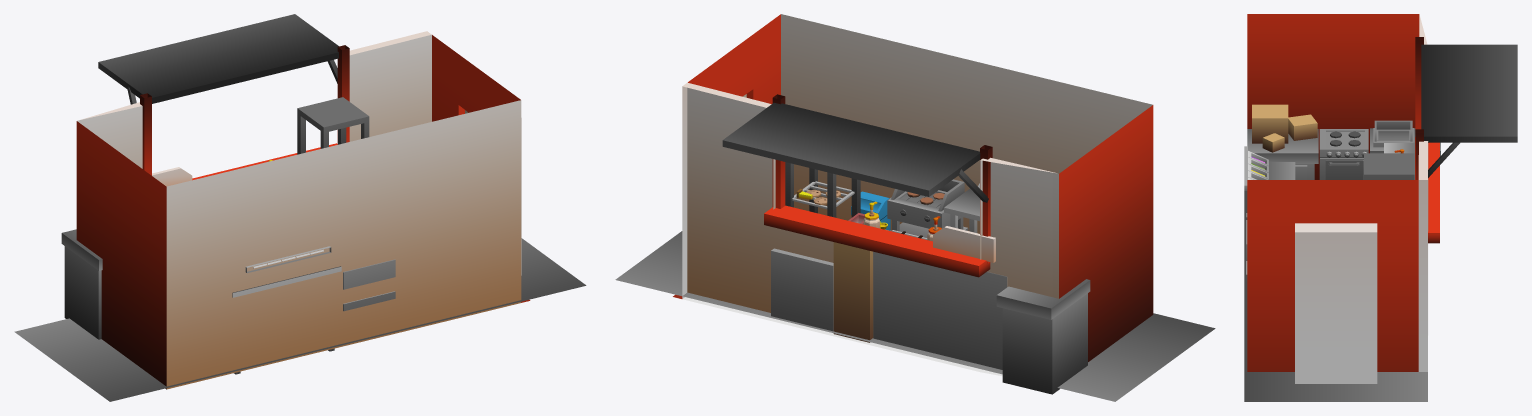
The model's file is scenejeu 1.fbx.
3 renders of one model, left to right at view 1: azimuth 30°, elevation 25°; view 2: azimuth 150°, elevation 25°; view 3: azimuth 270°, elevation 25°, orthographic. The views are drawn at different scales.
Visible parts, largest first — view 1: Cube.003, Cube.006, Cube.001, Cube.033, Cube.014, Cube.044, Cube.021, Cube.022, Cube.029, Cube.045; view 2: Cube.003, Cube.006, Cube.001, Cube.033, Cube, Cube.013, Cube.009, Cube.018, Cube.007, Cube.010, Cube.044, Cube.045 (+6 smaller); view 3: Cube.003, Cube.006, Cube.001, button.001, Cube.005, Cube.014, Cube.023, Cube, Cube.035, Cube.024, Cube.021, Cube.029 (+5 smaller).
Part boxes in pixels (left/top/right/bottom): Cube.003: left=76, top=31, right=530, bottom=389; Cube.006: left=98, top=14, right=338, bottom=103; Cube.001: left=14, top=238, right=586, bottom=401; Cube.033: left=61, top=229, right=102, bottom=339; Cube.014: left=297, top=97, right=369, bottom=154; Cube.044: left=343, top=259, right=395, bottom=311; Cube.021: left=140, top=93, right=151, bottom=175; Cube.022: left=337, top=45, right=349, bottom=144; Cube.029: left=232, top=266, right=341, bottom=374; Cube.045: left=152, top=167, right=192, bottom=186; Cube.003: left=673, top=14, right=1153, bottom=376; Cube.006: left=722, top=103, right=980, bottom=196; Cube.001: left=615, top=231, right=1215, bottom=401; Cube.033: left=996, top=279, right=1090, bottom=394; Cube: left=764, top=205, right=990, bottom=277; Cube.013: left=771, top=248, right=833, bottom=331; Cube.009: left=917, top=262, right=962, bottom=359; Cube.018: left=873, top=230, right=927, bottom=348; Cube.007: left=962, top=271, right=1007, bottom=369; Cube.010: left=833, top=229, right=888, bottom=342; Cube.044: left=887, top=179, right=968, bottom=237; Cube.045: left=933, top=226, right=995, bottom=262; Cube.003: left=1247, top=14, right=1428, bottom=383; Cube.006: left=1421, top=44, right=1517, bottom=142; Cube.001: left=1244, top=191, right=1427, bottom=401; button.001: left=1319, top=129, right=1368, bottom=179; Cube.005: left=1247, top=129, right=1318, bottom=179; Cube.014: left=1364, top=153, right=1414, bottom=179; Cube.023: left=1252, top=104, right=1288, bottom=143; Cube: left=1415, top=137, right=1439, bottom=243; Cube.035: left=1373, top=120, right=1414, bottom=147; Cube.024: left=1288, top=114, right=1317, bottom=140; Cube.021: left=1415, top=37, right=1423, bottom=129; Cube.029: left=1246, top=162, right=1295, bottom=217.
Size of the model in its own units: 590 by 254 by 306.
Materials: 33 (33 with a texture image).
